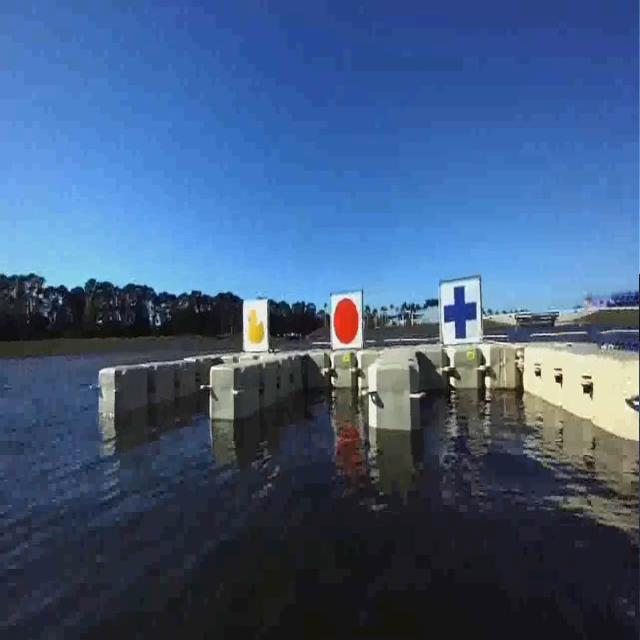blue-cross: (440, 280, 480, 344)
red-dot: (330, 292, 362, 350)
yellow-duck: (242, 296, 269, 353)
